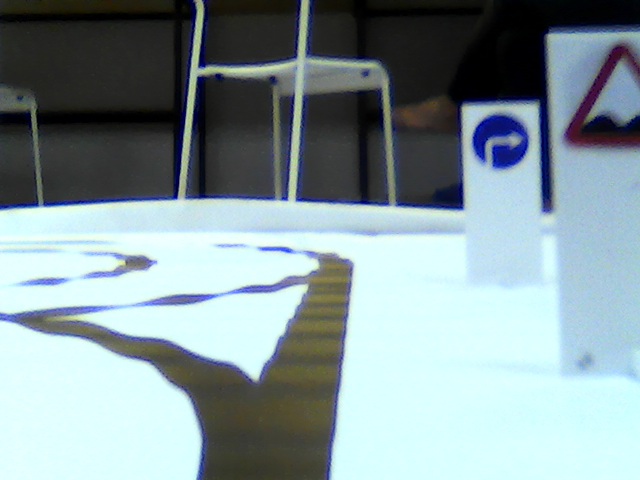Right: (472, 113, 530, 168)
